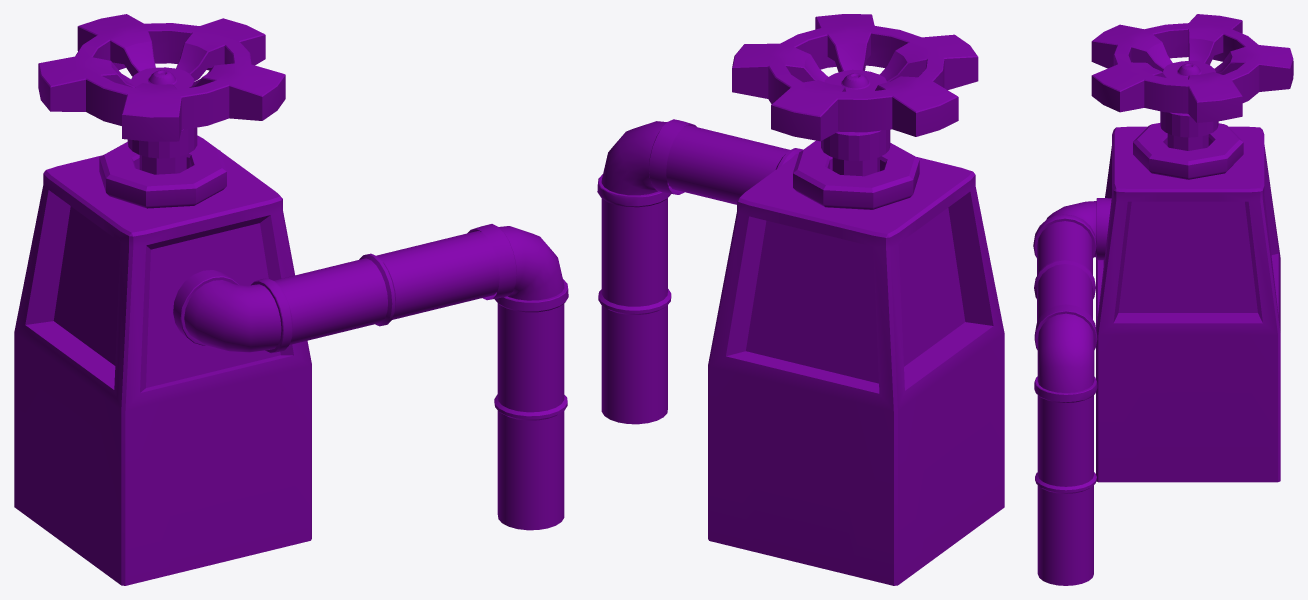
Rendered from geo_Split_Blob.fbx.
The picture shows the model from 3 angles, left to right: view 1: azimuth 30°, elevation 25°; view 2: azimuth 150°, elevation 25°; view 3: azimuth 270°, elevation 25°; orthographic projection. The views are drawn at different scales.
Visible parts, largest first — view 1: geo_base, geo_valve, geo_tuyaux2, geo_tuyaux; view 2: geo_base, geo_valve, geo_tuyaux, geo_tuyaux2; view 3: geo_base, geo_valve, geo_tuyaux, geo_tuyaux2.
Boxes of the visible parts, x1,y1,x2,y2 form: geo_base: (14, 135, 311, 585); geo_valve: (38, 14, 285, 174); geo_tuyaux2: (173, 231, 499, 353); geo_tuyaux: (467, 224, 568, 530); geo_base: (708, 140, 1004, 585); geo_valve: (732, 14, 978, 176); geo_tuyaux: (597, 119, 696, 424); geo_tuyaux2: (666, 125, 802, 204); geo_base: (1096, 123, 1280, 482); geo_valve: (1091, 14, 1293, 150); geo_tuyaux: (1034, 304, 1097, 585); geo_tuyaux2: (1033, 198, 1111, 322).
Bounding box in the file's own units: 2.7 × 2.81 × 1.66.
